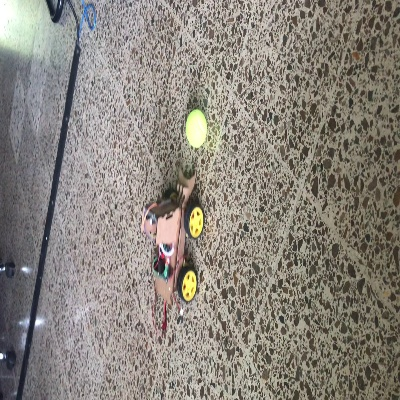Ball: (185, 110, 207, 147)
Robot: (142, 167, 204, 305)
